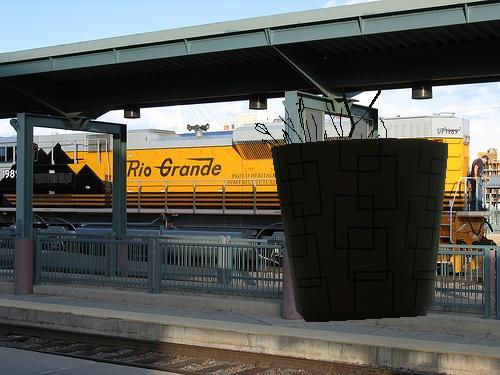tampered: (256, 88, 448, 322)
